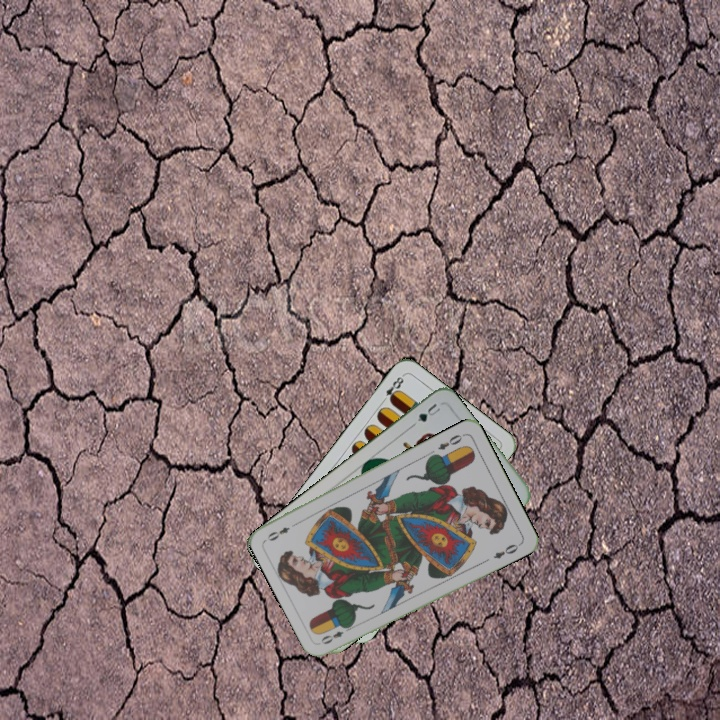E8: (377, 371, 407, 406)
EO: (317, 622, 354, 647), (434, 430, 467, 453)
GU: (413, 399, 444, 425)
